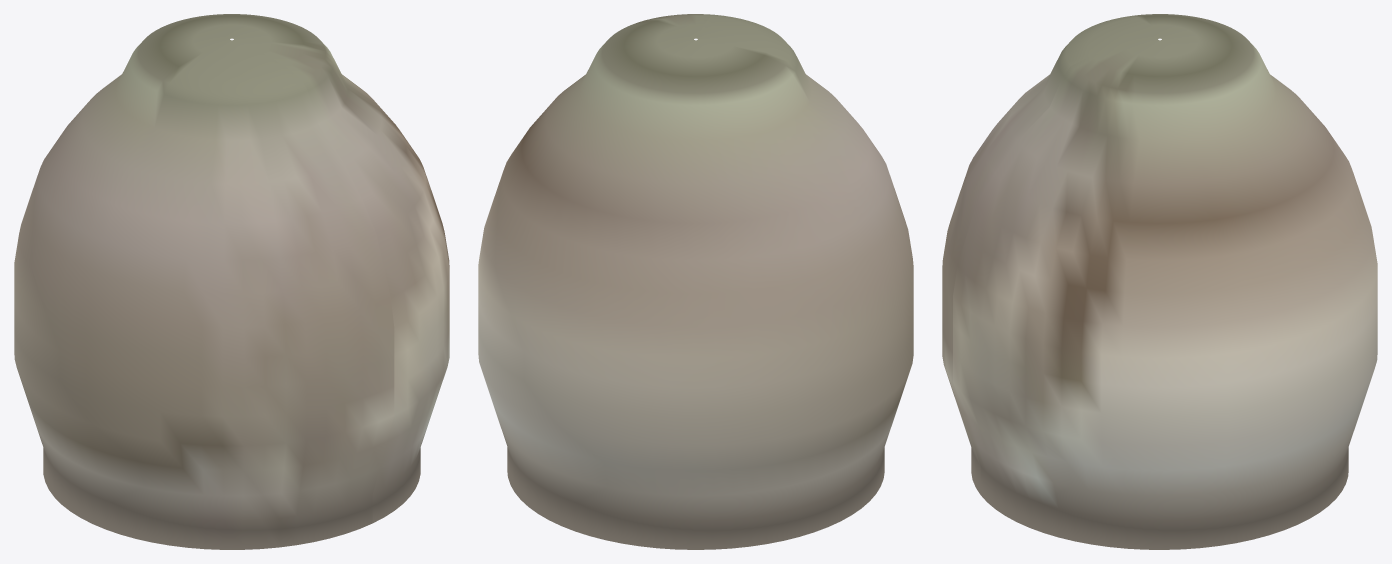
File: critter-2.glb
3 views of the same model, side by side, from view 1: azimuth 30°, elevation 25°; view 2: azimuth 150°, elevation 25°; view 3: azimuth 270°, elevation 25° (orthographic).
Parts seen in each view (by area): view 1: critter-2; view 2: critter-2; view 3: critter-2.
Part boxes in pixels (box(x1,y1,x2,y2)): critter-2: box(14, 14, 449, 549); critter-2: box(478, 14, 913, 549); critter-2: box(942, 14, 1377, 549).
Bounding box in the file's own units: 0.2211 × 0.2414 × 0.2211.
